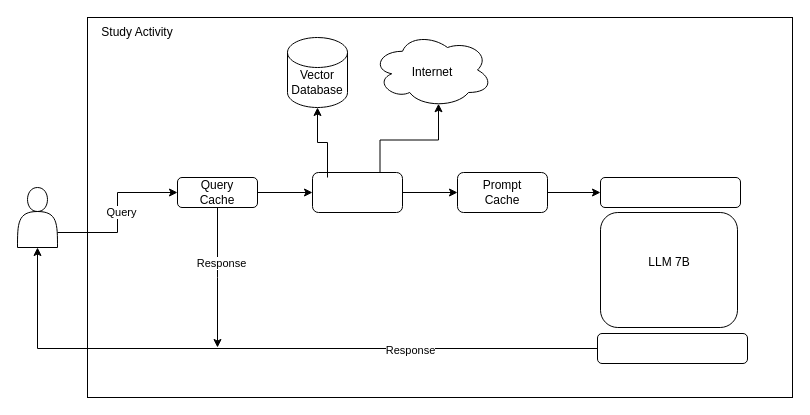
This 810x415 diagram has some shape labels left out. Each missing label, with the centre of its shape:
"Input GuardRail" belongs at (x=670, y=192).
"Output GuardRail" belongs at (x=672, y=348).
"RAG" belongs at (x=357, y=192).
